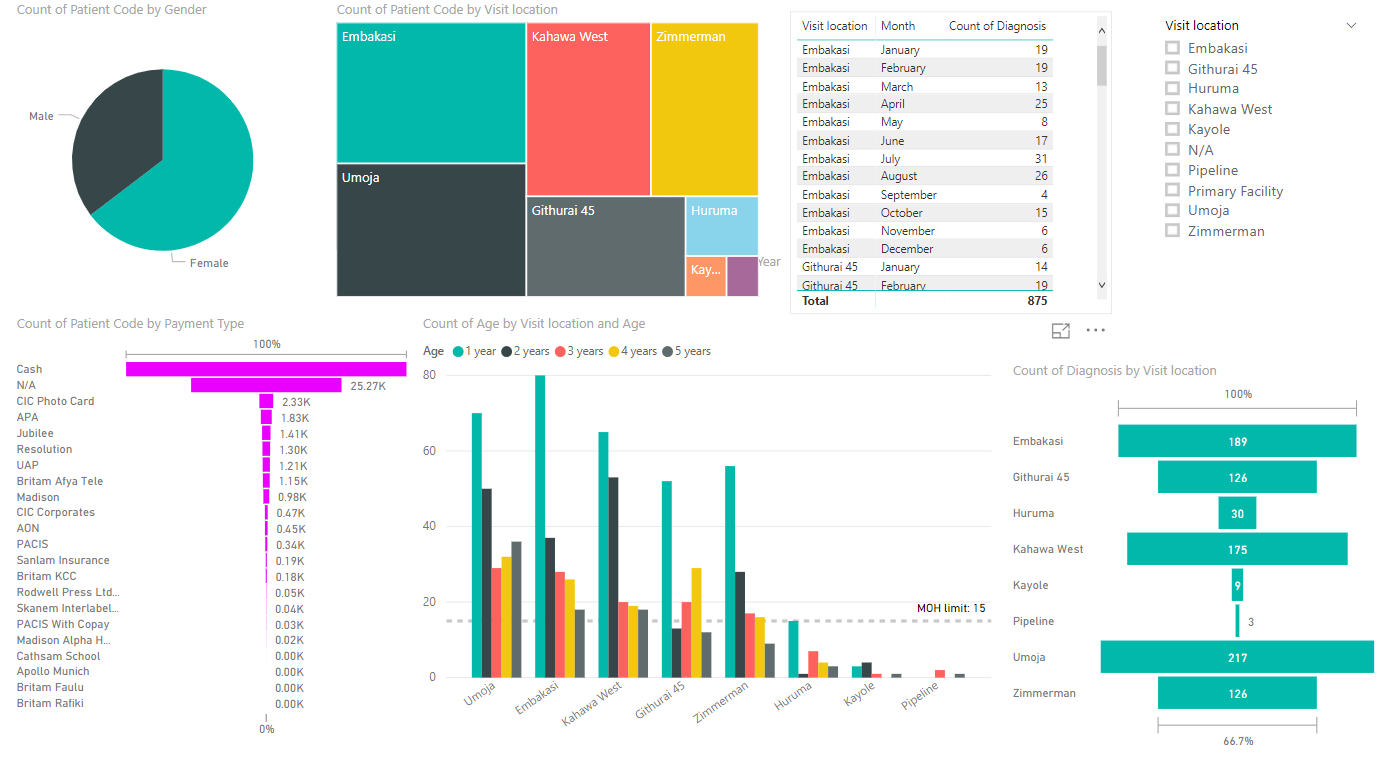

The dashboard page shown, as its layout file describes it:
{"tool":"powerbi","page":{"name":"Page 1","canvas":[1280,720],"ordinal":0},"visuals":[{"type":"pieChart","fields":{"Category":["PatientPaidVisit.Gender"],"Y":["CountNonNull(PatientPaidVisit.Patient Code)"]},"box":[10,0,280,280],"z":0},{"type":"clusteredColumnChart","fields":{"Category":["PatientPaidVisit.Visit date.Variation.Date Hierarchy.Year","PatientPaidVisit.Visit date.Variation.Date Hierarchy.Quarter","PatientPaidVisit.Visit date.Variation.Date Hierarchy.Month","PatientPaidVisit.Visit date.Variation.Date Hierarchy.Day"]},"box":[694.6,233.5,299.3,299.3],"z":8},{"type":"treemap","fields":{"Group":["PatientPaidVisit.Visit location"],"Values":["CountNonNull(PatientPaidVisit.Patient Code)"]},"box":[306.3,0,399.9,279.7],"z":1000},{"type":"funnel","fields":{"Category":["PatientPaidVisit.Payment Type"],"Y":["CountNonNull(PatientPaidVisit.Patient Code)"]},"box":[10.4,290.1,375.6,395.2],"z":2000},{"type":"clusteredColumnChart","fields":{"Category":["PatientPaidVisit.Visit location"],"Series":["PatientPaidVisit.Age"],"Y":["CountNonNull(PatientPaidVisit.Age)"]},"box":[386,290.1,535.1,395.2],"z":3000},{"type":"tableEx","fields":{"Values":["PatientPaidVisit.Visit location","PatientPaidVisit.Visit date.Variation.Date Hierarchy.Month","PatientPaidVisit.Diagnosis"]},"box":[730.4,10.4,298.2,279.7],"z":4000},{"type":"funnel","fields":{"Category":["PatientPaidVisit.Visit location","PatientPaidVisit.Visit date.Variation.Date Hierarchy.Month"],"Y":["CountNonNull(PatientPaidVisit.Diagnosis)"]},"box":[931.5,334,349,364],"z":5000},{"type":"slicer","fields":{"Values":["PatientPaidVisit.Visit location"]},"box":[1064.4,10.4,202.2,279.7],"z":6000}]}

Visuals, with their boxes in screenshot pixels (x1, y1, x2, y2), scaled from the page's 1280x720 canvas onto the 1382x775 screenshot:
pieChart - PatientPaidVisit.Gender x CountNonNull(PatientPaidVisit.Patient Code): Rect(11, 0, 313, 301)
clusteredColumnChart - PatientPaidVisit.Visit date.Variation.Date Hierarchy.Year x PatientPaidVisit.Visit date.Variation.Date Hierarchy.Quarter: Rect(750, 251, 1073, 573)
treemap - PatientPaidVisit.Visit location x CountNonNull(PatientPaidVisit.Patient Code): Rect(331, 0, 762, 301)
funnel - PatientPaidVisit.Payment Type x CountNonNull(PatientPaidVisit.Patient Code): Rect(11, 312, 417, 738)
clusteredColumnChart - PatientPaidVisit.Visit location x PatientPaidVisit.Age: Rect(417, 312, 995, 738)
tableEx - PatientPaidVisit.Visit location x PatientPaidVisit.Visit date.Variation.Date Hierarchy.Month: Rect(789, 11, 1111, 312)
funnel - PatientPaidVisit.Visit location x PatientPaidVisit.Visit date.Variation.Date Hierarchy.Month: Rect(1006, 360, 1381, 751)
slicer - PatientPaidVisit.Visit location: Rect(1149, 11, 1368, 312)
